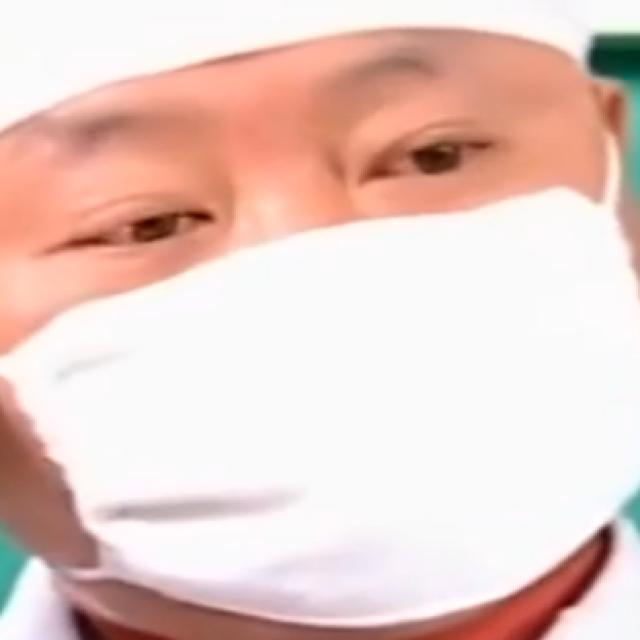mask: (2, 164, 640, 640)
